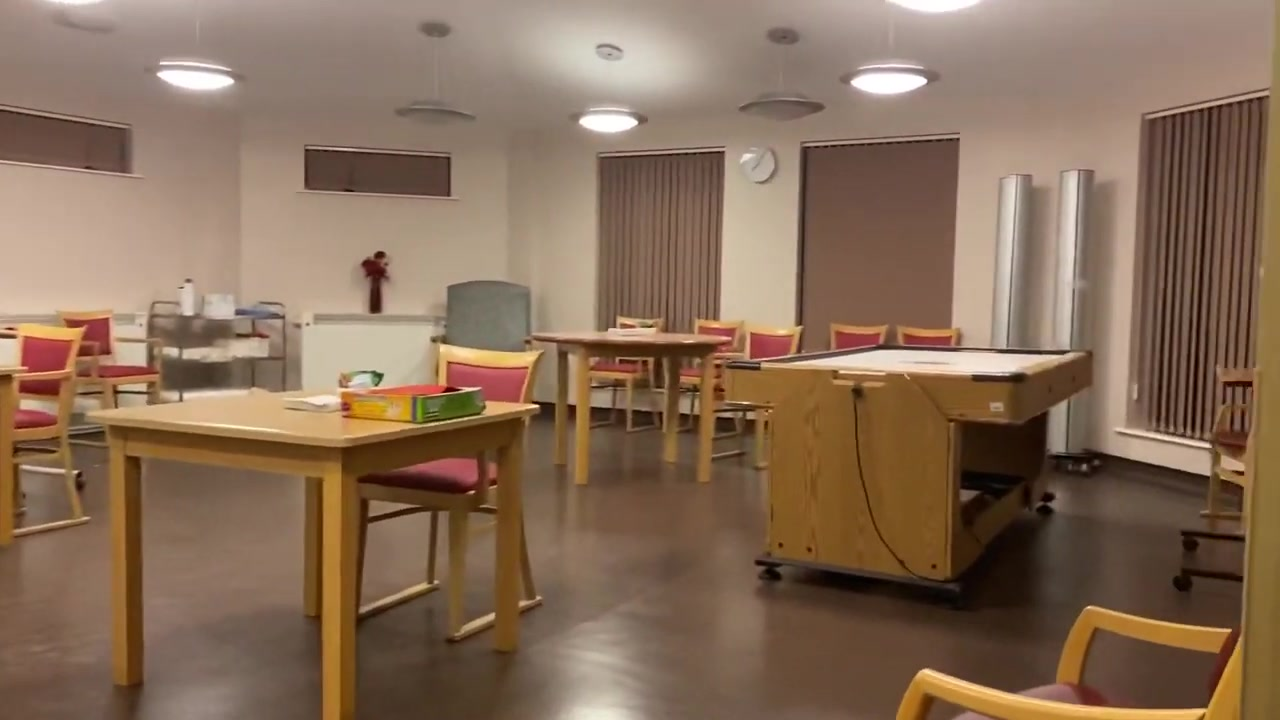chair: (332, 345, 543, 646), (896, 579, 1246, 720), (1, 323, 92, 547), (59, 309, 165, 463), (702, 322, 805, 470), (586, 313, 665, 433), (1200, 362, 1259, 521), (668, 319, 746, 438), (444, 278, 533, 353), (827, 322, 887, 355), (893, 322, 960, 350)
table: (83, 391, 543, 720), (531, 327, 740, 484)
utility_cart: (146, 297, 289, 433)
